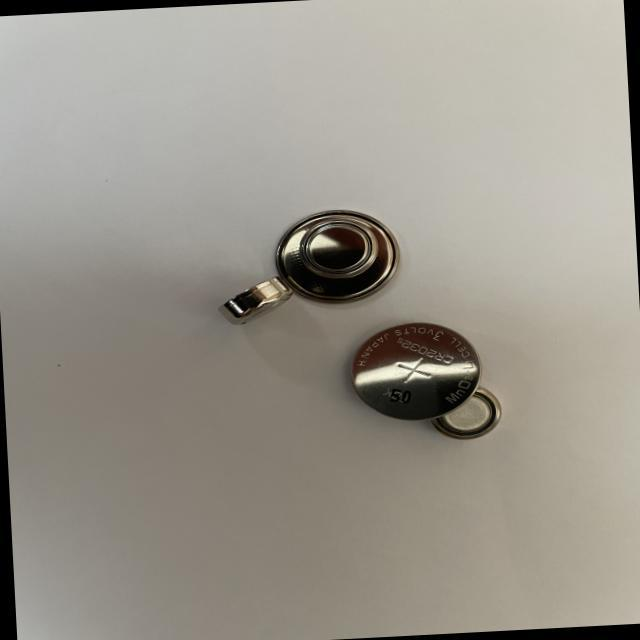COIN: (348, 318, 483, 424), (269, 206, 404, 308), (297, 216, 380, 284), (426, 386, 506, 444), (215, 276, 297, 328)
